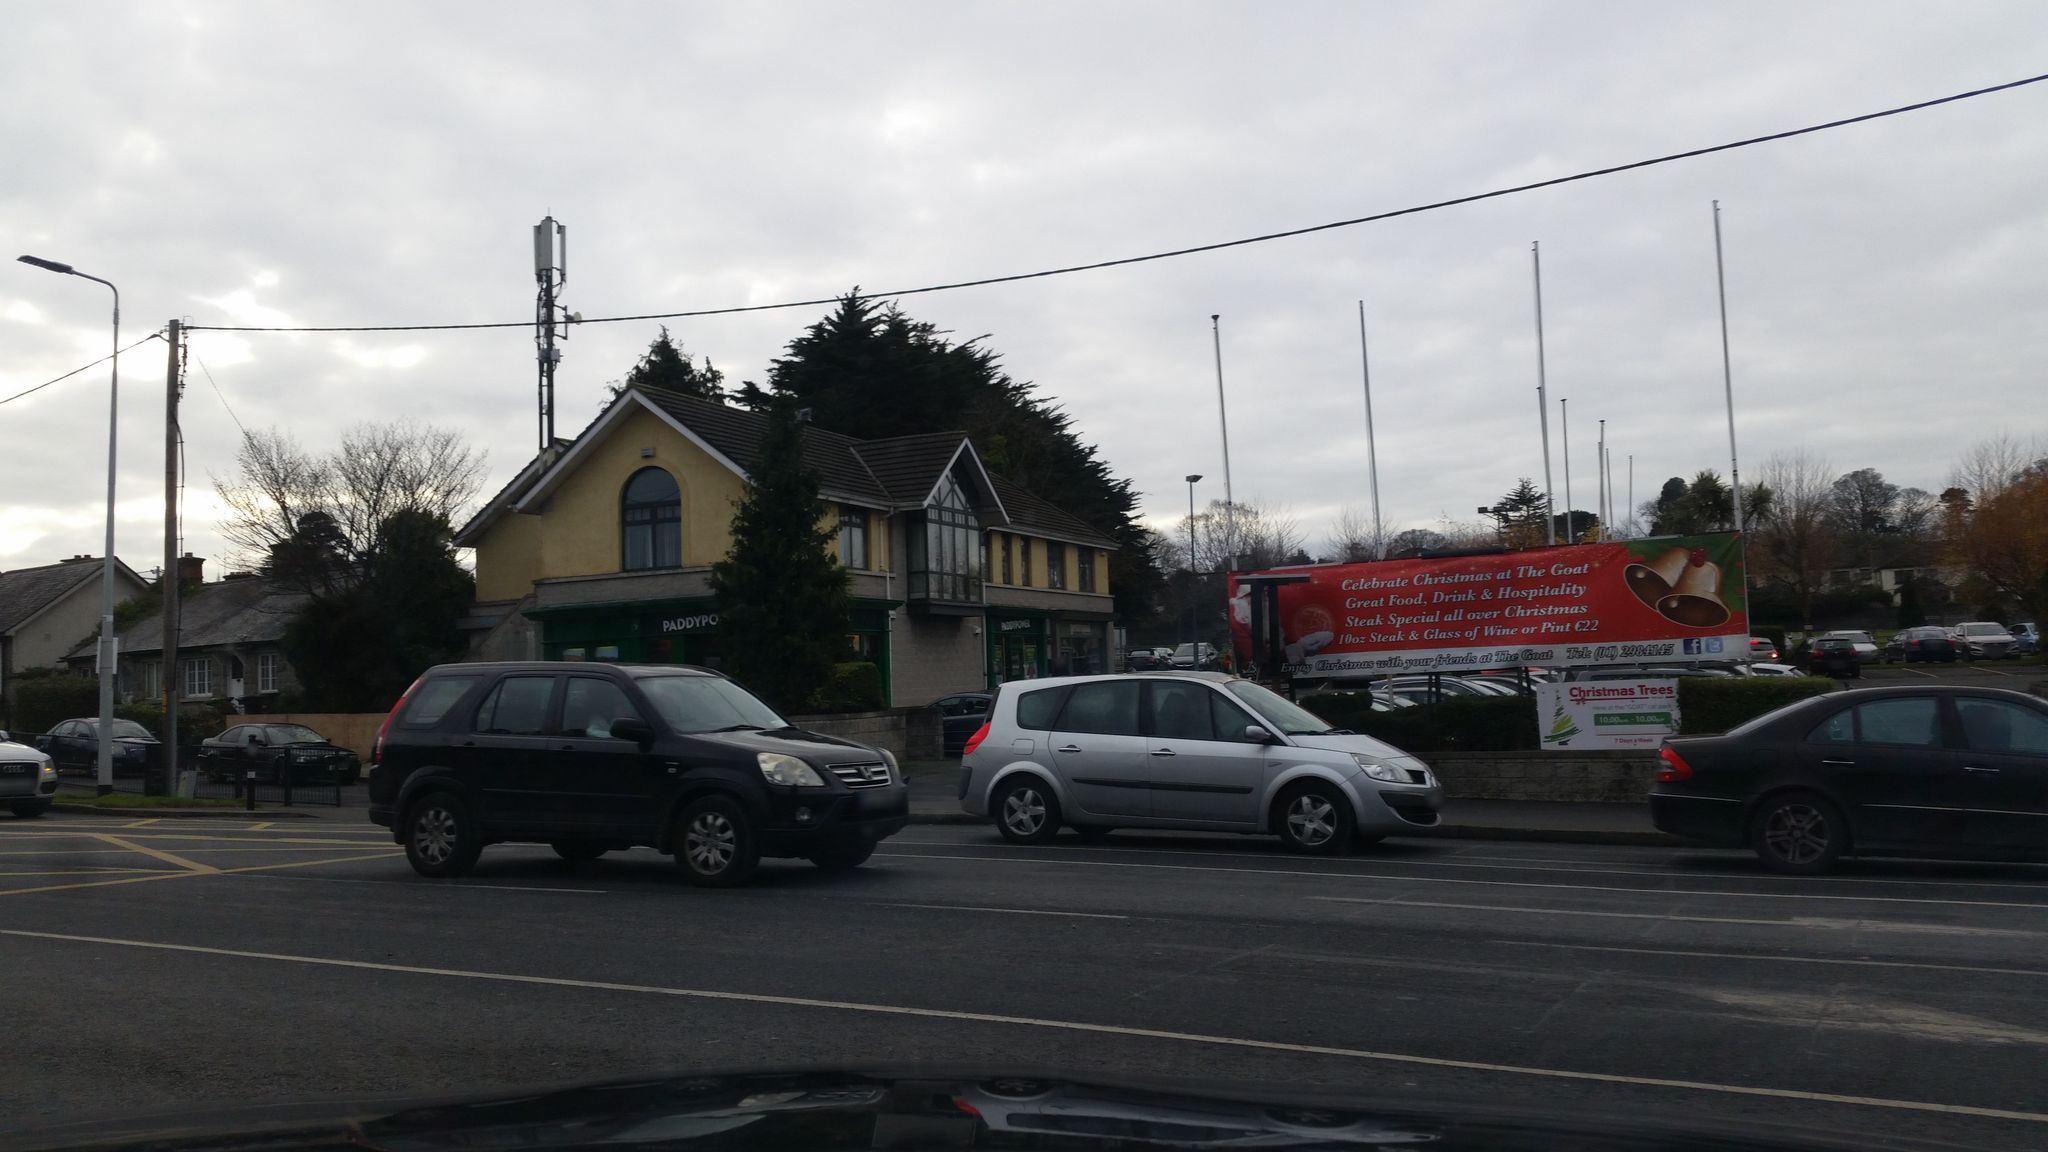vinyl banner: (1224, 529, 1777, 679), (1523, 667, 1722, 762)
